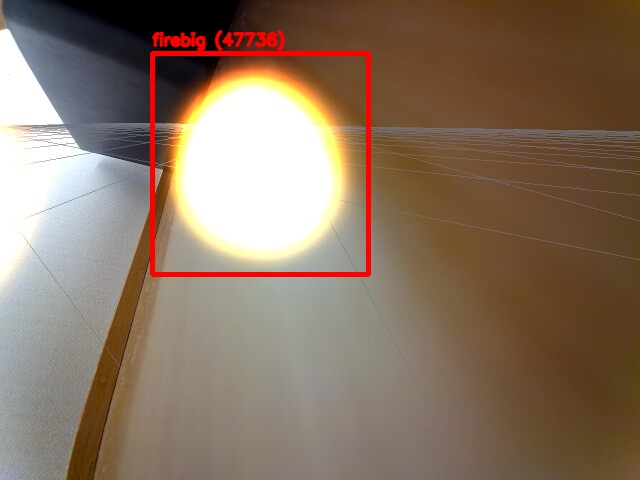firebig: (152, 53, 368, 274)
